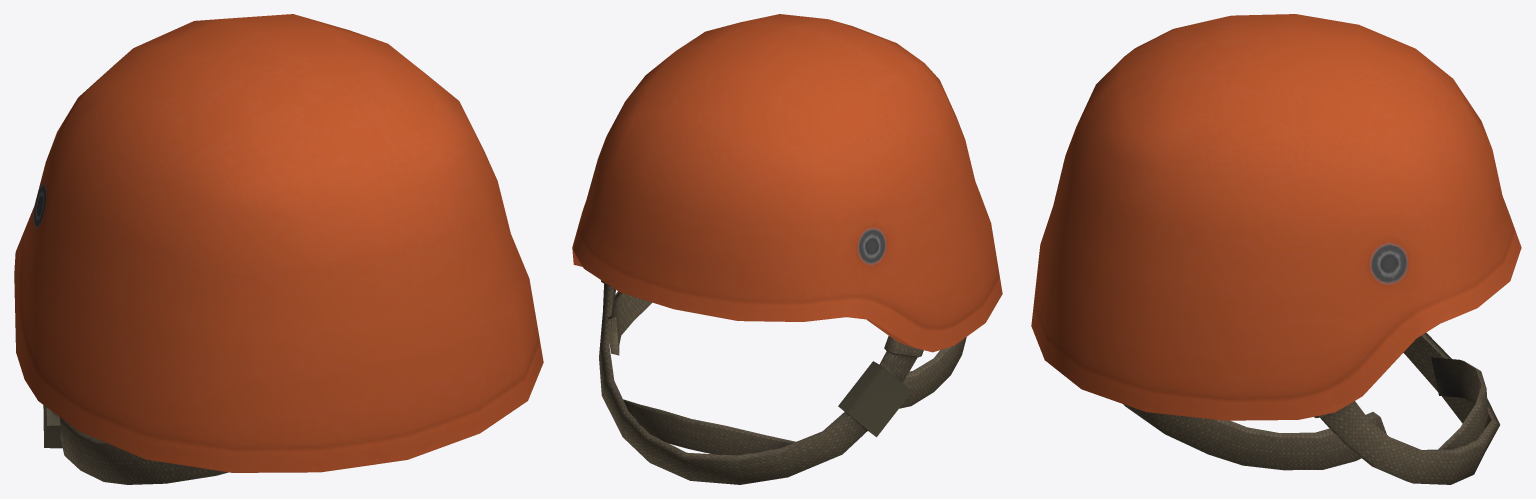
File: IG_Helmat_Lv2-2.fbx
3 views of the same model, side by side, from view 1: azimuth 30°, elevation 25°; view 2: azimuth 150°, elevation 25°; view 3: azimuth 270°, elevation 25° (orthographic). The views are drawn at different scales.
Visible parts, largest first — view 1: DUNTAR; view 2: DUNTAR; view 3: DUNTAR.
Boxes of the visible parts, bbox=[...] form: DUNTAR: bbox=[14, 14, 543, 484]; DUNTAR: bbox=[572, 14, 1002, 484]; DUNTAR: bbox=[1031, 14, 1521, 484].
Bounding box in the file's own units: 0.5872 × 0.5781 × 0.6126.
Materials: 1 (1 with a texture image).
